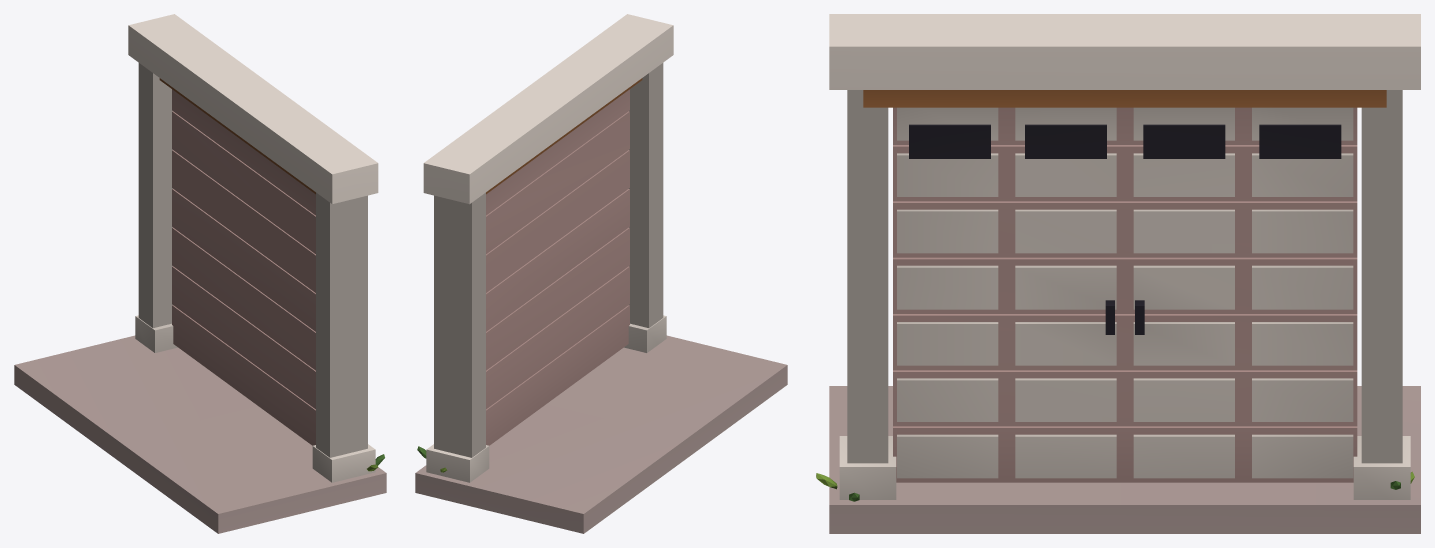
File: house.garage.closed.lod2.glb
3 views of the same model, side by side, from view 1: azimuth 30°, elevation 25°; view 2: azimuth 150°, elevation 25°; view 3: azimuth 270°, elevation 25° (orthographic). The views are drawn at different scales.
Size of the model in its own units: 1.29 by 2.34 by 2.66.
